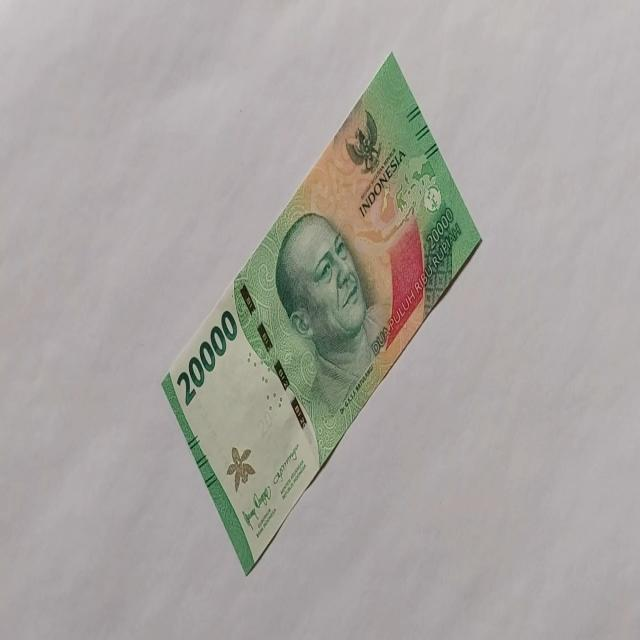dua puluh ribu rupiah: (161, 49, 484, 576), (273, 210, 387, 412), (175, 308, 238, 408)
